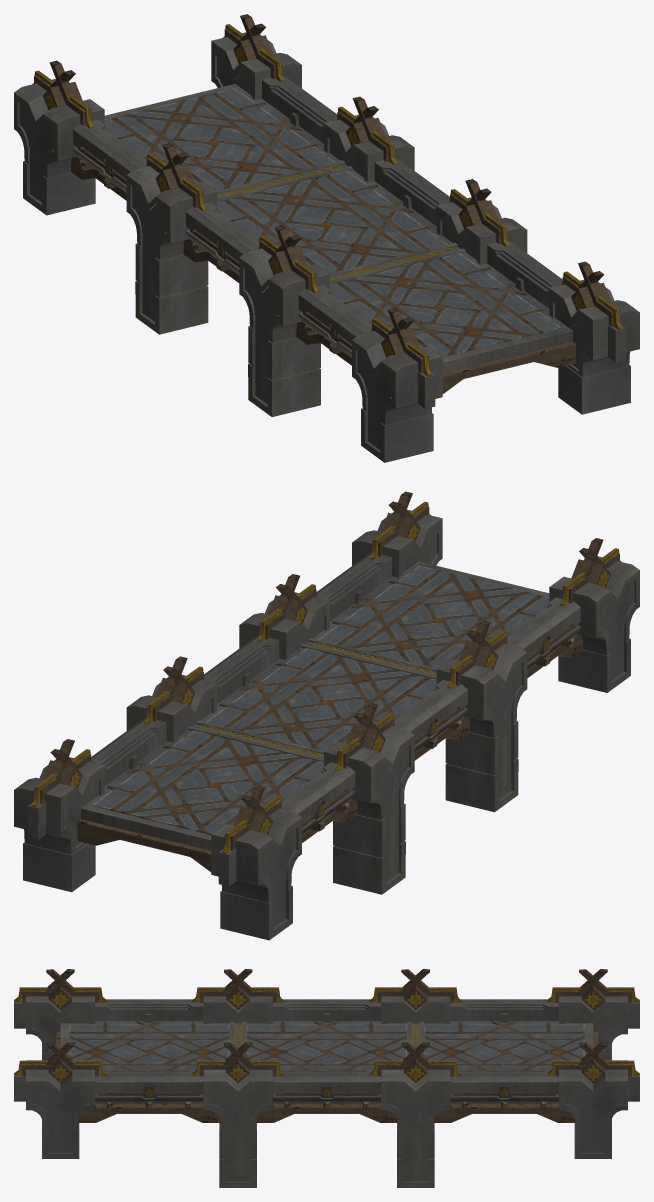
The model's file is scandinavian_bridge.glb.
3 views of the same model, one above another, from view 1: azimuth 30°, elevation 25°; view 2: azimuth 150°, elevation 25°; view 3: azimuth 270°, elevation 25° (orthographic). The views are drawn at different scales.
Parts seen in each view (by area): view 1: Object_5, Object_8, Object_9, Object_4, Object_7, Object_6, Object_3; view 2: Object_5, Object_8, Object_9, Object_4, Object_7, Object_6, Object_3; view 3: Object_8, Object_5, Object_9, Object_4, Object_7, Object_3, Object_6, Object_2.
Boxes of the visible parts, x1=… form: Object_5: x1=104, y1=88, x2=561, y2=357; Object_8: x1=14, y1=14, x2=639, y2=462; Object_9: x1=126, y1=96, x2=527, y2=416; Object_4: x1=73, y1=76, x2=572, y2=373; Object_7: x1=71, y1=156, x2=575, y2=393; Object_6: x1=216, y1=160, x2=465, y2=284; Object_3: x1=77, y1=147, x2=351, y2=349; Object_5: x1=92, y1=565, x2=549, y2=834; Object_8: x1=14, y1=491, x2=639, y2=940; Object_9: x1=126, y1=574, x2=527, y2=894; Object_4: x1=81, y1=554, x2=580, y2=850; Object_7: x1=77, y1=634, x2=582, y2=872; Object_6: x1=188, y1=638, x2=437, y2=762; Object_3: x1=302, y1=625, x2=576, y2=827; Object_8: x1=14, y1=969, x2=639, y2=1158; Object_5: x1=69, y1=1021, x2=584, y2=1071; Object_9: x1=192, y1=969, x2=461, y2=1187; Object_4: x1=60, y1=999, x2=593, y2=1103; Object_7: x1=56, y1=1031, x2=597, y2=1122; Object_3: x1=98, y1=1086, x2=555, y2=1097; Object_6: x1=230, y1=1021, x2=423, y2=1055; Object_2: x1=107, y1=1101, x2=546, y2=1107.
Size of the model in its own units: 31.59 by 20.68 by 88.11.
8 materials, 8 textured.
